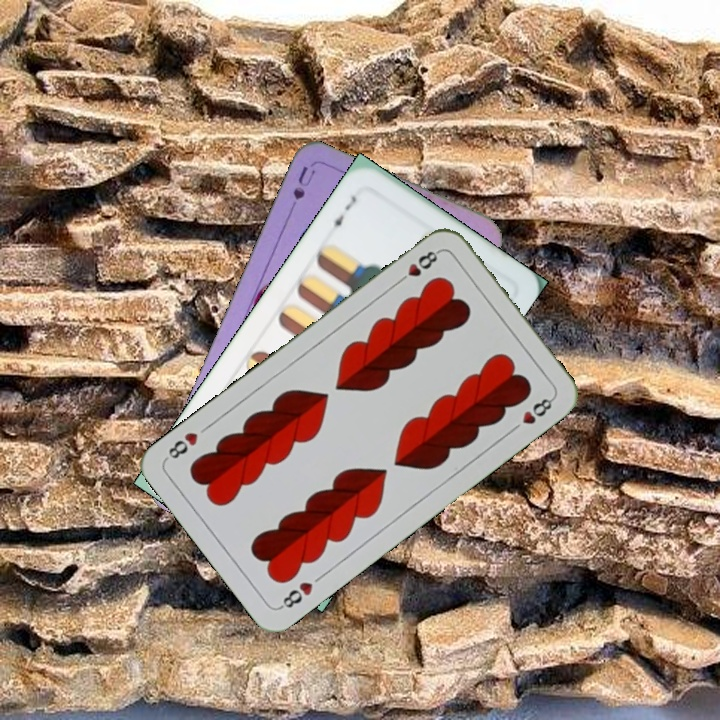E7: (325, 191, 360, 234)
H8: (392, 246, 443, 287), (275, 577, 316, 612)
SU: (283, 162, 318, 219)
